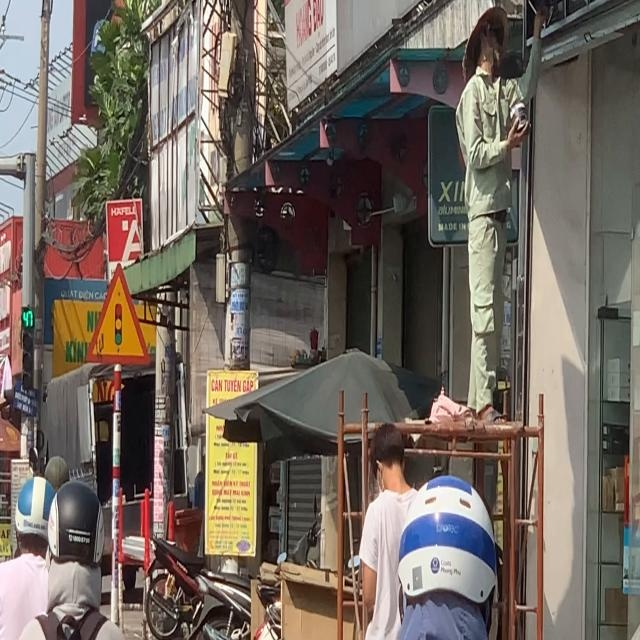bien_nguy_hiem: (83, 256, 153, 369)
